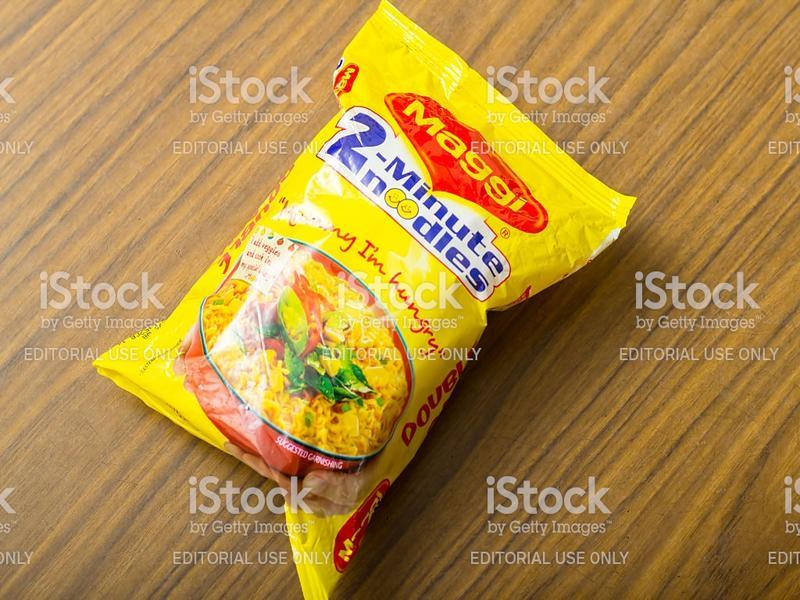maggi-small: (108, 1, 639, 592)
